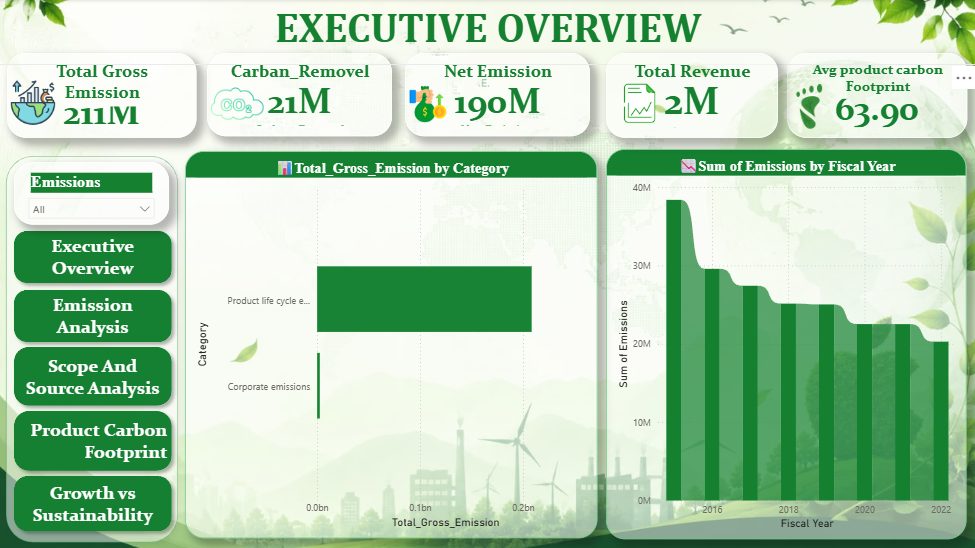

This screenshot's page, from the dashboard's own definition file:
{"tool":"powerbi","page":{"name":"Executive Overview","canvas":[1280,720],"ordinal":0},"visuals":[{"type":"card","title":"Total Gross Emission","fields":{"Values":["greenhouse_gas_emissions.Total_Gross_Emission"]},"box":[10.1,70.6,247.7,110.9],"z":0},{"type":"card","title":"Avg product carbon Footprint","fields":{"Values":["carbon_footprint_by_product.Avg_Product_carbon_Footprint"]},"box":[1031,70.6,236.2,110.9],"z":1000},{"type":"card","title":"Carban_Removel","fields":{"Values":["greenhouse_gas_emissions.Carbon_Removel"]},"box":[272.2,70.6,241.9,109.4],"z":2000},{"type":"card","title":"Net Emission","fields":{"Values":["greenhouse_gas_emissions.Net_Emission"]},"box":[531.4,70.6,241.9,109.4],"z":3000},{"type":"barChart","title":"📊Total_Gross_Emission by Category","fields":{"Category":["greenhouse_gas_emissions.Category"],"Y":["greenhouse_gas_emissions.Total_Gross_Emission"]},"box":[243.4,198.7,540,506.9],"z":4000},{"type":"ribbonChart","title":"📉Sum of Emissions by Fiscal Year","fields":{"Category":["greenhouse_gas_emissions.Fiscal Year"],"Y":["Sum(greenhouse_gas_emissions.Emissions)"]},"box":[794.9,195.8,472.3,511.2],"z":5000},{"type":"textbox","box":[0,0,1280.5,86.3],"z":6000},{"type":"shape","box":[0,195.8,243.4,524.2],"z":7000},{"type":"shape","box":[10.1,295.2,224.6,86.4],"z":8000},{"type":"shape","box":[10.1,371.5,224.6,86.4],"z":9000},{"type":"shape","box":[10.1,446.4,224.6,95],"z":10000},{"type":"shape","box":[10.1,529.9,224.6,96.5],"z":11000},{"type":"shape","box":[10.1,614.9,224.6,90.7],"z":12000},{"type":"card","title":"Total Revenue","fields":{"Values":["normalizing_factors.Total_Revenue"]},"box":[794.9,70.6,224.6,110.9],"z":13000},{"type":"slicer","fields":{"Values":["greenhouse_gas_emissions.Emissions"]},"box":[20.2,213.1,203,82.1],"z":14000},{"type":"image","box":[807.8,103.7,61.9,66.2],"z":15000},{"type":"image","box":[272.2,95,79.2,82.1],"z":16000},{"type":"image","box":[1019.5,99.4,82.1,82.1],"z":17000},{"type":"image","box":[10.1,100.8,67.7,70.6],"z":18000},{"type":"image","box":[531.4,108,60.5,57.6],"z":19000}]}

Visuals, with their boxes in screenshot pixels (x1, y1, x2, y2), scaled from the page's 1280x720 canvas onto the 975x548 screenshot:
"Total Gross Emission" card: Rect(8, 54, 196, 138)
"Avg product carbon Footprint" card: Rect(785, 54, 965, 138)
"Carban_Removel" card: Rect(207, 54, 392, 137)
"Net Emission" card: Rect(405, 54, 589, 137)
"📊Total_Gross_Emission by Category" barChart: Rect(185, 151, 597, 537)
"📉Sum of Emissions by Fiscal Year" ribbonChart: Rect(605, 149, 965, 538)
textbox: Rect(0, 0, 974, 66)
shape: Rect(0, 149, 185, 547)
shape: Rect(8, 225, 179, 290)
shape: Rect(8, 283, 179, 349)
shape: Rect(8, 340, 179, 412)
shape: Rect(8, 403, 179, 477)
shape: Rect(8, 468, 179, 537)
"Total Revenue" card: Rect(605, 54, 777, 138)
slicer - greenhouse_gas_emissions.Emissions: Rect(15, 162, 170, 225)
image: Rect(615, 79, 662, 129)
image: Rect(207, 72, 268, 135)
image: Rect(777, 76, 839, 138)
image: Rect(8, 77, 59, 130)
image: Rect(405, 82, 451, 126)
